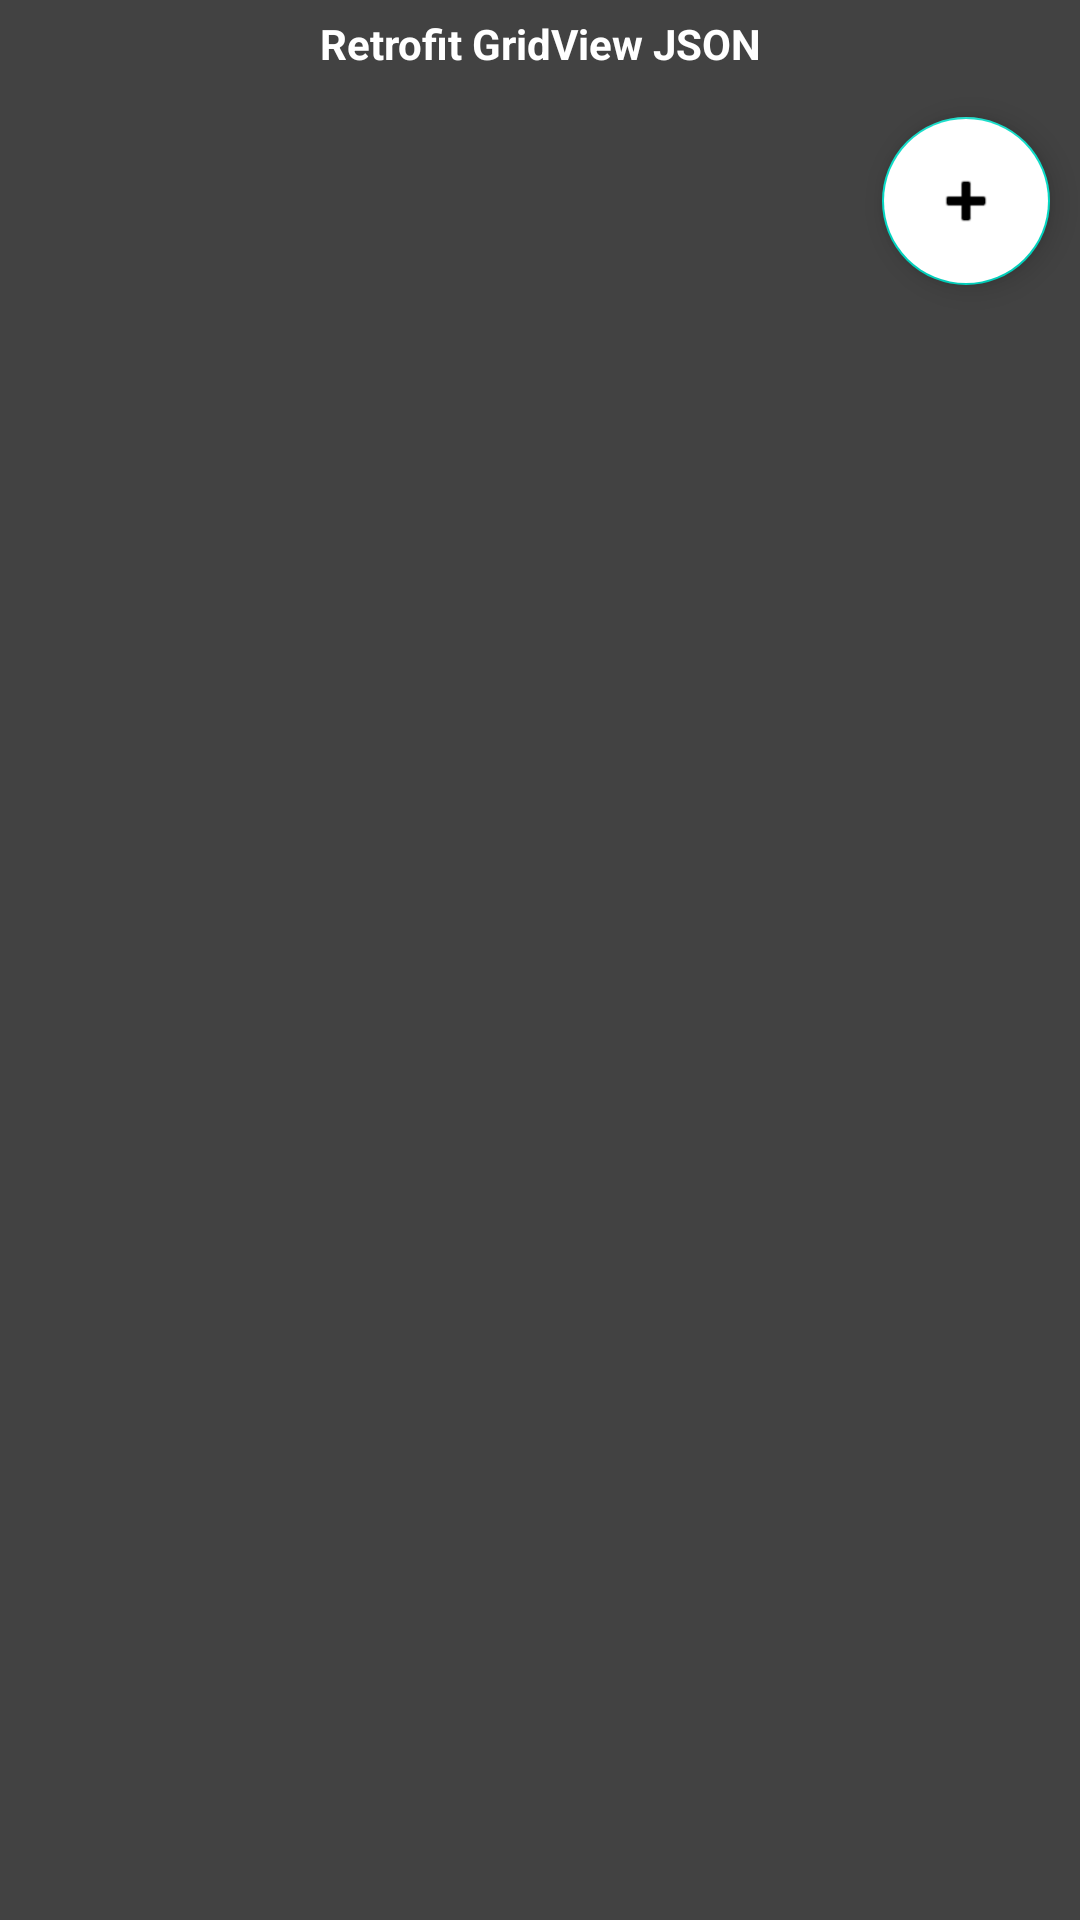

Where to tap for icons on this 1080*1920 app screen, as [x,y]:
add: [966,201]
